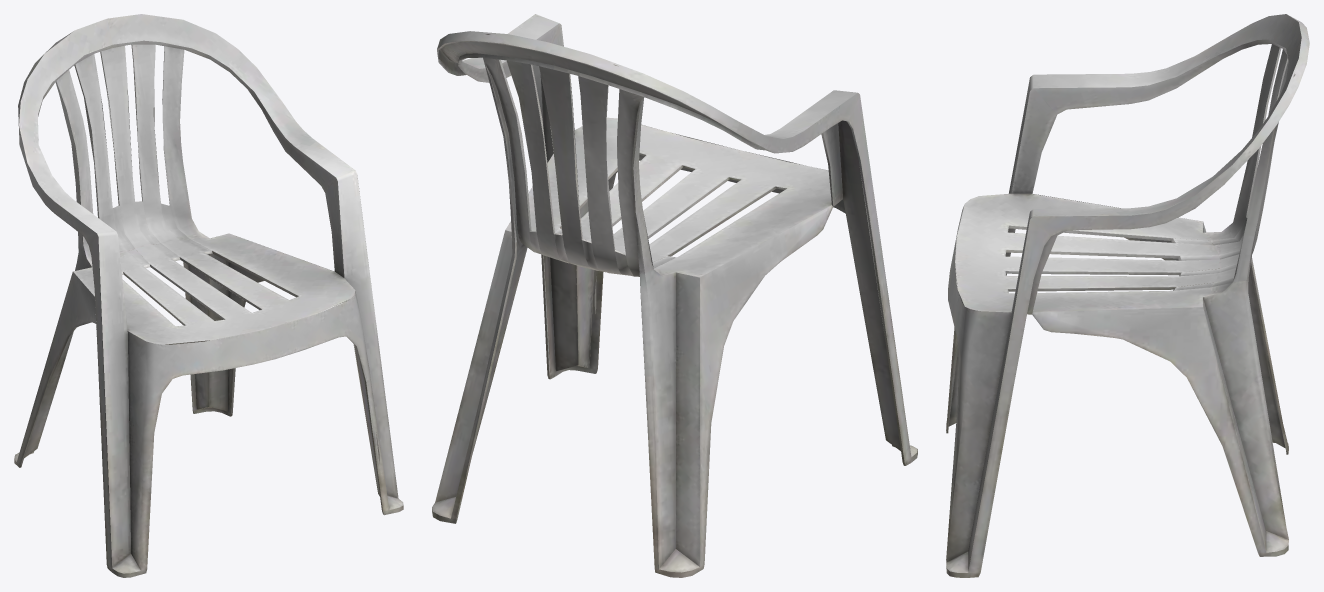
The model's file is chair.glb.
3 views of the same model, side by side, from view 1: azimuth 30°, elevation 25°; view 2: azimuth 150°, elevation 25°; view 3: azimuth 270°, elevation 25° (orthographic). The views are drawn at different scales.
Visible parts, largest first — view 1: plastic_monobloc_chair_01; view 2: plastic_monobloc_chair_01; view 3: plastic_monobloc_chair_01.
Boxes of the visible parts, box(x1,y1,x2,y2) form: plastic_monobloc_chair_01: box(14, 14, 403, 577); plastic_monobloc_chair_01: box(432, 14, 917, 577); plastic_monobloc_chair_01: box(946, 14, 1309, 577).
Size of the model in its own units: 0.6418 by 0.8798 by 0.6277.
Materials: 1 (1 with a texture image).
